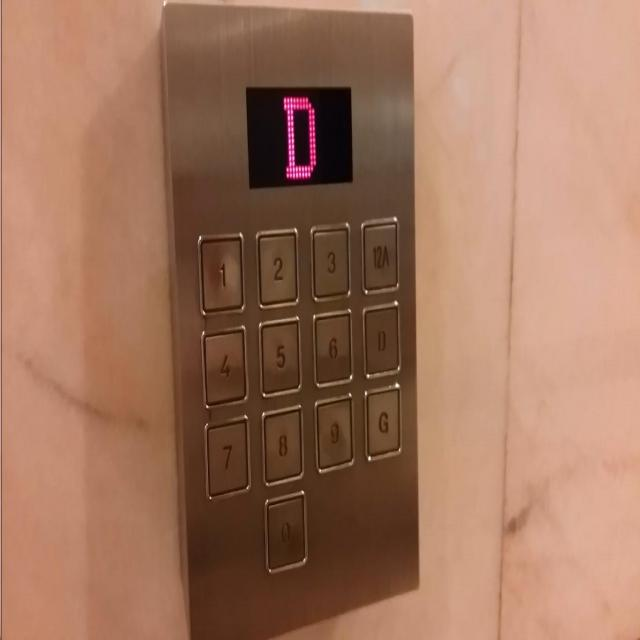0: (264, 488, 308, 576)
1: (195, 229, 247, 318)
12A: (360, 213, 400, 295)
2: (254, 225, 300, 310)
3: (309, 219, 352, 303)
4: (199, 322, 248, 408)
5: (257, 312, 303, 398)
6: (311, 307, 354, 388)
7: (203, 412, 251, 502)
8: (260, 402, 305, 488)
9: (313, 393, 355, 475)
D: (360, 299, 401, 380)
G: (362, 382, 402, 462)
led: (244, 82, 354, 192)
